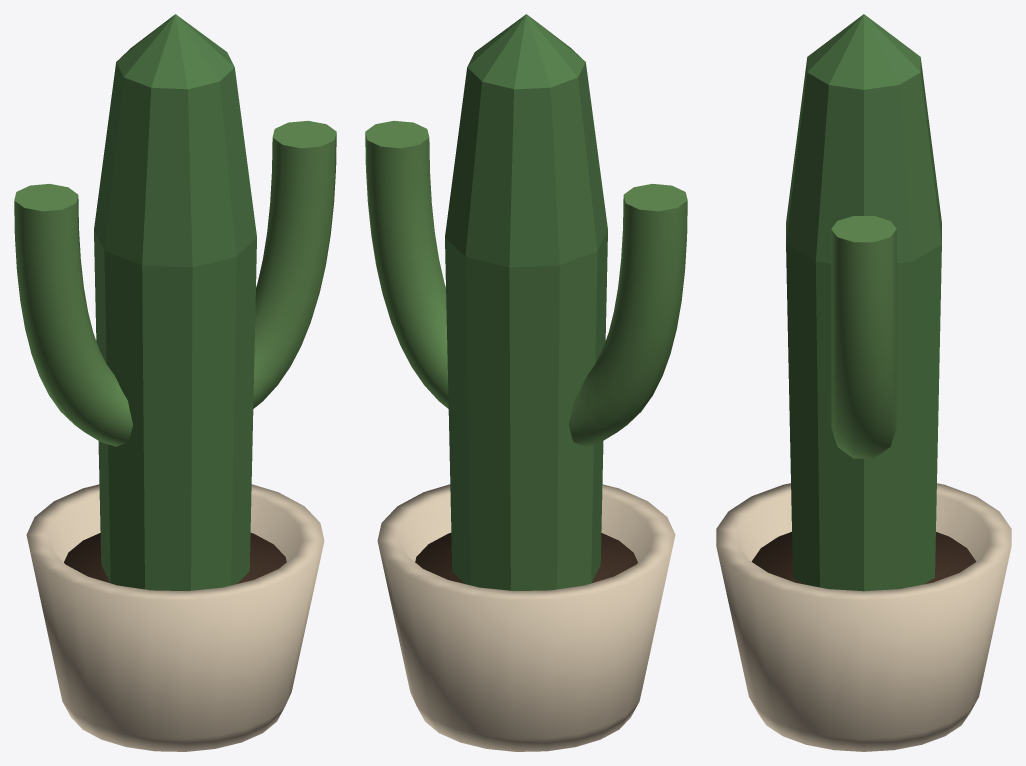
The model's file is i_plant_2.glb.
3 views of the same model, side by side, from view 1: azimuth 30°, elevation 25°; view 2: azimuth 150°, elevation 25°; view 3: azimuth 270°, elevation 25° (orthographic).
Parts seen in each view (by area): view 1: o.002, o, o.003, o.004, o.001; view 2: o.002, o, o.003, o.004, o.001; view 3: o.002, o, o.004, o.001.
Boxes of the visible parts, <box> form: o.002: <box>94,14,256,591</box>; o: <box>26,484,324,751</box>; o.003: <box>14,183,132,446</box>; o.004: <box>253,120,336,408</box>; o.001: <box>64,533,286,583</box>; o.002: <box>445,14,607,591</box>; o: <box>377,484,675,751</box>; o.003: <box>569,183,687,446</box>; o.004: <box>365,120,448,408</box>; o.001: <box>415,533,637,583</box>; o.002: <box>786,14,941,591</box>; o: <box>716,483,1011,751</box>; o.004: <box>831,216,896,458</box>; o.001: <box>751,532,976,584</box>.
Size of the model in its own units: 0.1935 by 0.41 by 0.1584.
